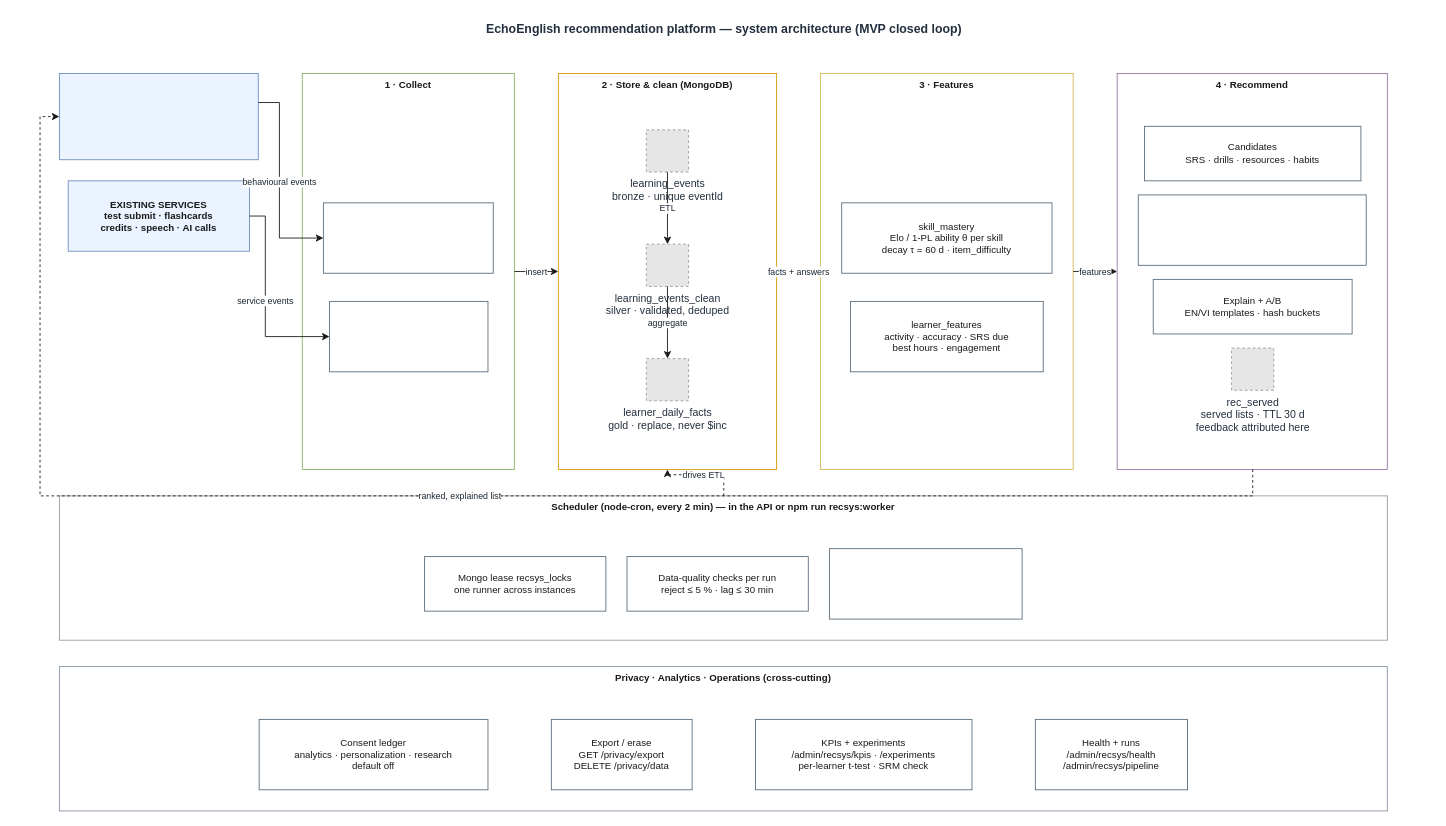
The diagram is 1446 pixels wide and 826 high, and some of its shapes have lost their labels. Grey dashed boxes stand in for pictures. Here are the shapes that lost their labels. From the top down, the centre of each, then its label:
the point at 158,116: LEARNER APPS web · mobile GET /recommendations POST /recommendations/feedback
the point at 408,237: POST /events/batch zod schema · allow-list consent gate · 60 req/min
the point at 1251,229: Ranker + guardrails weights · caps · cooldowns · budget exploration slot (10 %)
the point at 408,336: emit() from services fail-safe, never throws server-trusted events
the point at 925,583: Webhook alerts ETL failed/degraded/crashed retrain crash · model retired
